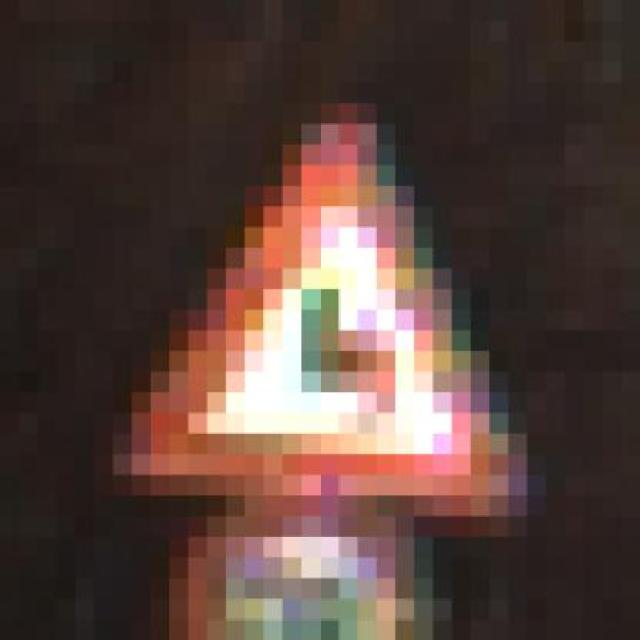Left Zig Zag Traffic: (94, 103, 546, 537)
